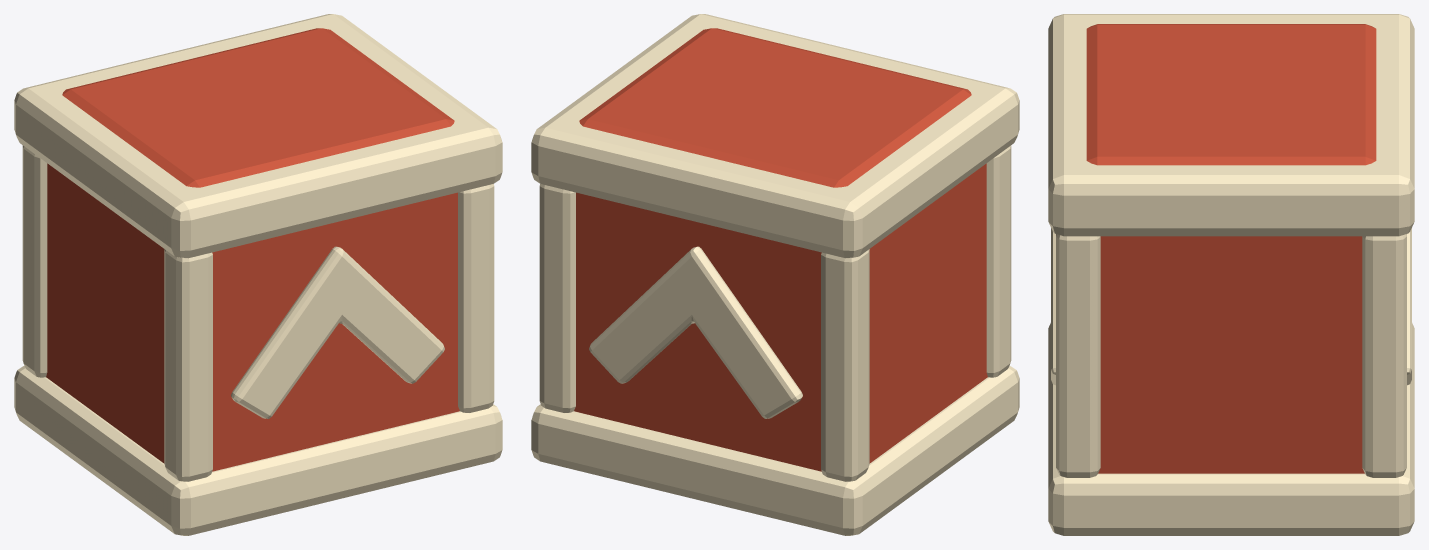
The model's file is toy-crate.glb.
The picture shows the model from 3 angles, left to right: view 1: azimuth 30°, elevation 25°; view 2: azimuth 150°, elevation 25°; view 3: azimuth 270°, elevation 25°; orthographic projection. The views are drawn at different scales.
Parts seen in each view (by area): view 1: Boulevard_cream, Boulevard_red; view 2: Boulevard_cream, Boulevard_red; view 3: Boulevard_red, Boulevard_cream.
Boxes of the visible parts, x1,y1,x2,y2 form: Boulevard_cream: (14,14,502,535); Boulevard_red: (46,28,459,471); Boulevard_cream: (531,14,1019,535); Boulevard_red: (574,28,987,471); Boulevard_red: (1086,24,1376,473); Boulevard_cream: (1048,14,1414,535).
Bounding box in the file's own units: 0.92 × 0.9 × 0.82.
